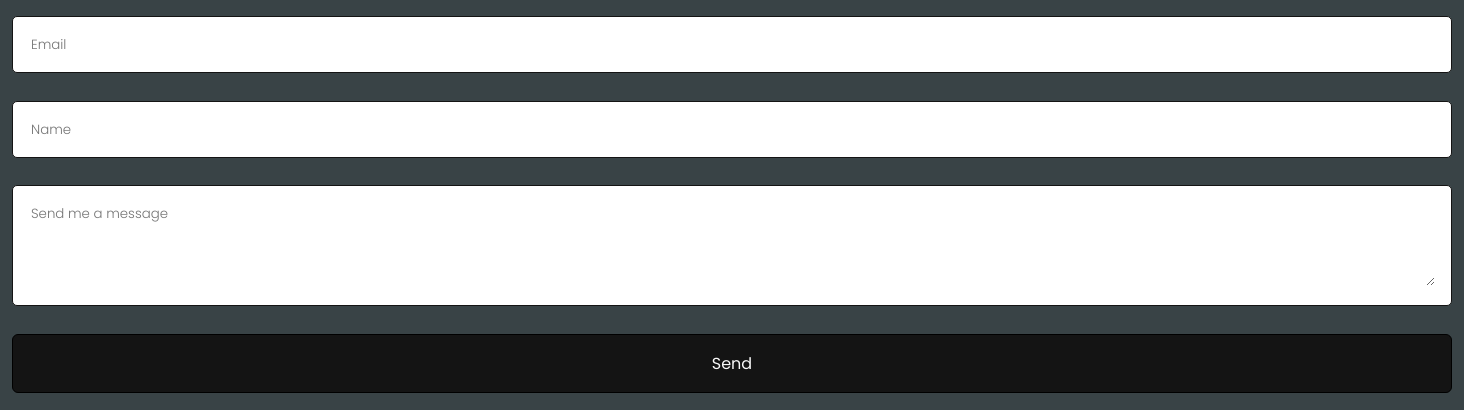
ContactForm › shows validation errors when fields are empty
The width and height of the screenshot is (1464, 410).
Click the button "Send" at (732, 363), box [12, 334, 1452, 393]
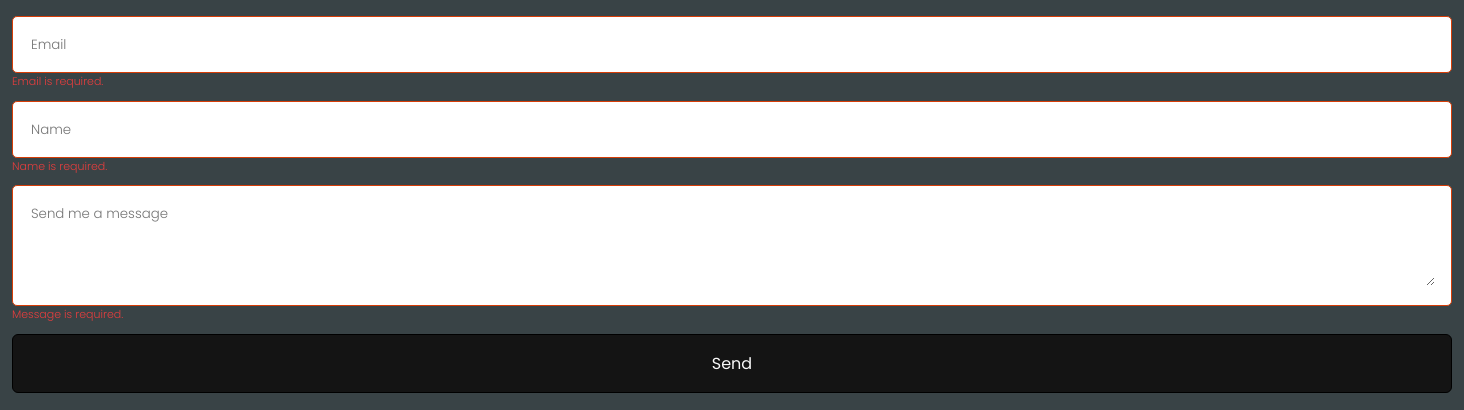
Expected: the text "Email is required." is shown, [12, 73, 103, 89]
Expected: the text "Name is required." is shown, [12, 158, 107, 174]
Expected: the text "Message is required." is shown, [12, 306, 123, 322]
